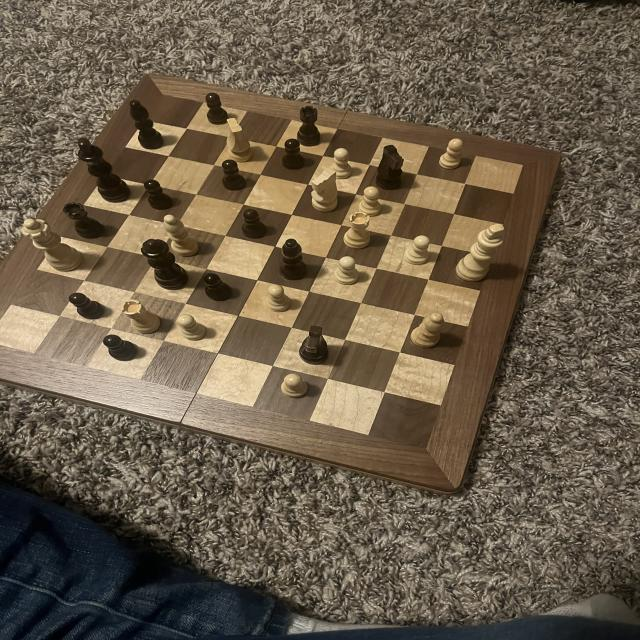bishop: (127, 99, 164, 150), (276, 237, 312, 283)
black-bishop: (76, 137, 132, 202)
black-king: (371, 144, 407, 192), (297, 325, 333, 367)
black-knight: (66, 291, 106, 324), (238, 207, 274, 242), (103, 333, 140, 363), (143, 178, 175, 212), (220, 158, 252, 192), (202, 90, 232, 125), (202, 274, 236, 302), (280, 138, 308, 171)
black-pawn: (139, 236, 192, 290)
black-queen: (62, 200, 107, 240), (294, 104, 326, 148)
black-rook: (162, 213, 203, 258), (408, 311, 448, 350)
white-bishop: (452, 223, 508, 283)
white-king: (308, 167, 344, 214), (223, 116, 257, 164)
white-knight: (402, 234, 436, 266), (174, 312, 210, 342), (437, 137, 467, 172), (333, 255, 364, 286), (265, 283, 295, 315), (325, 148, 354, 181), (356, 184, 384, 218), (280, 371, 311, 401)
white-pawn: (19, 216, 84, 272)
white-queen: (119, 298, 164, 337), (342, 210, 374, 250)
